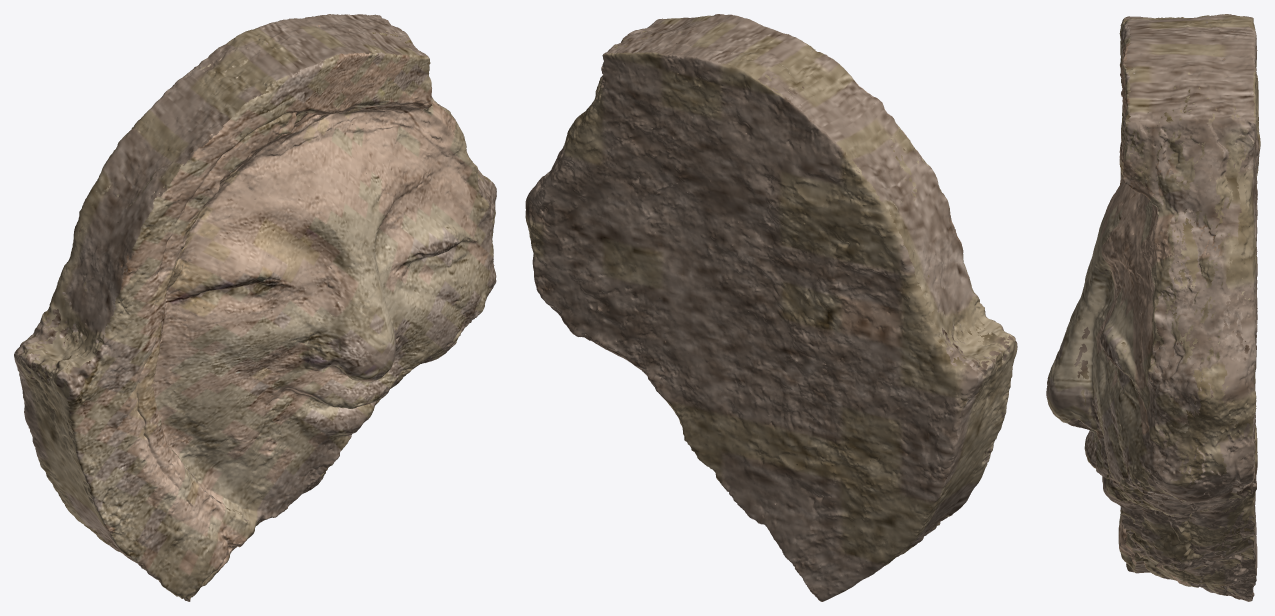
The model's file is smile-textured-v1.glb.
3 views of the same model, side by side, from view 1: azimuth 30°, elevation 25°; view 2: azimuth 150°, elevation 25°; view 3: azimuth 270°, elevation 25° (orthographic). The views are drawn at different scales.
Parts seen in each view (by area): view 1: 천년의 미소 · 얼굴무늬 수막새; view 2: 천년의 미소 · 얼굴무늬 수막새; view 3: 천년의 미소 · 얼굴무늬 수막새.
Boxes of the visible parts, left/top/right/bottom form: 천년의 미소 · 얼굴무늬 수막새: left=14, top=14, right=496, bottom=601; 천년의 미소 · 얼굴무늬 수막새: left=525, top=14, right=1017, bottom=601; 천년의 미소 · 얼굴무늬 수막새: left=1046, top=14, right=1260, bottom=601.
Bounding box in the file's own units: 0.2342 × 0.25 × 0.0764.
Materials: 3 (3 with a texture image).
